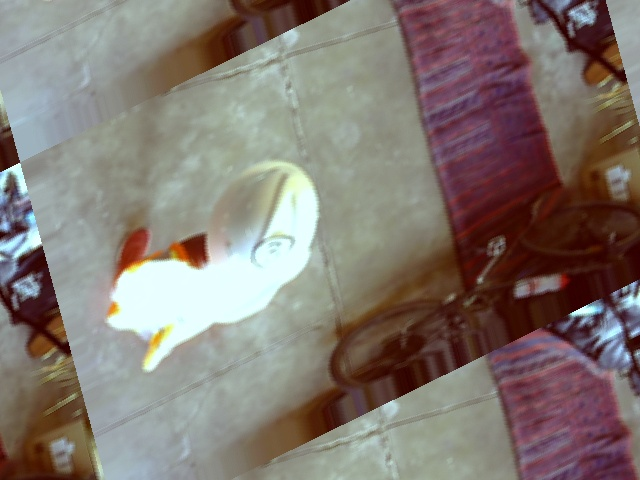three: (248, 226, 298, 273)
